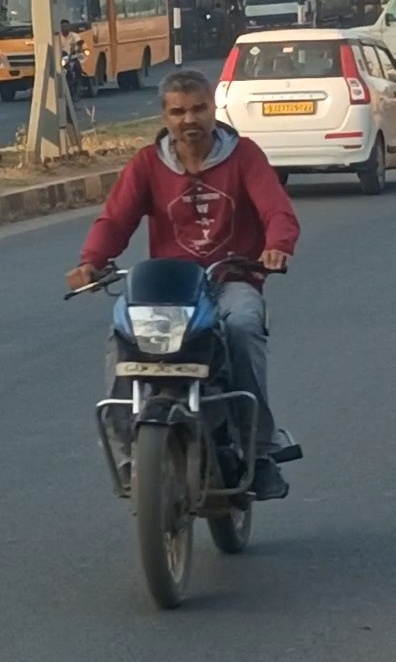BikeWithRider: (56, 66, 314, 617)
NoHelmet: (150, 66, 224, 149)
